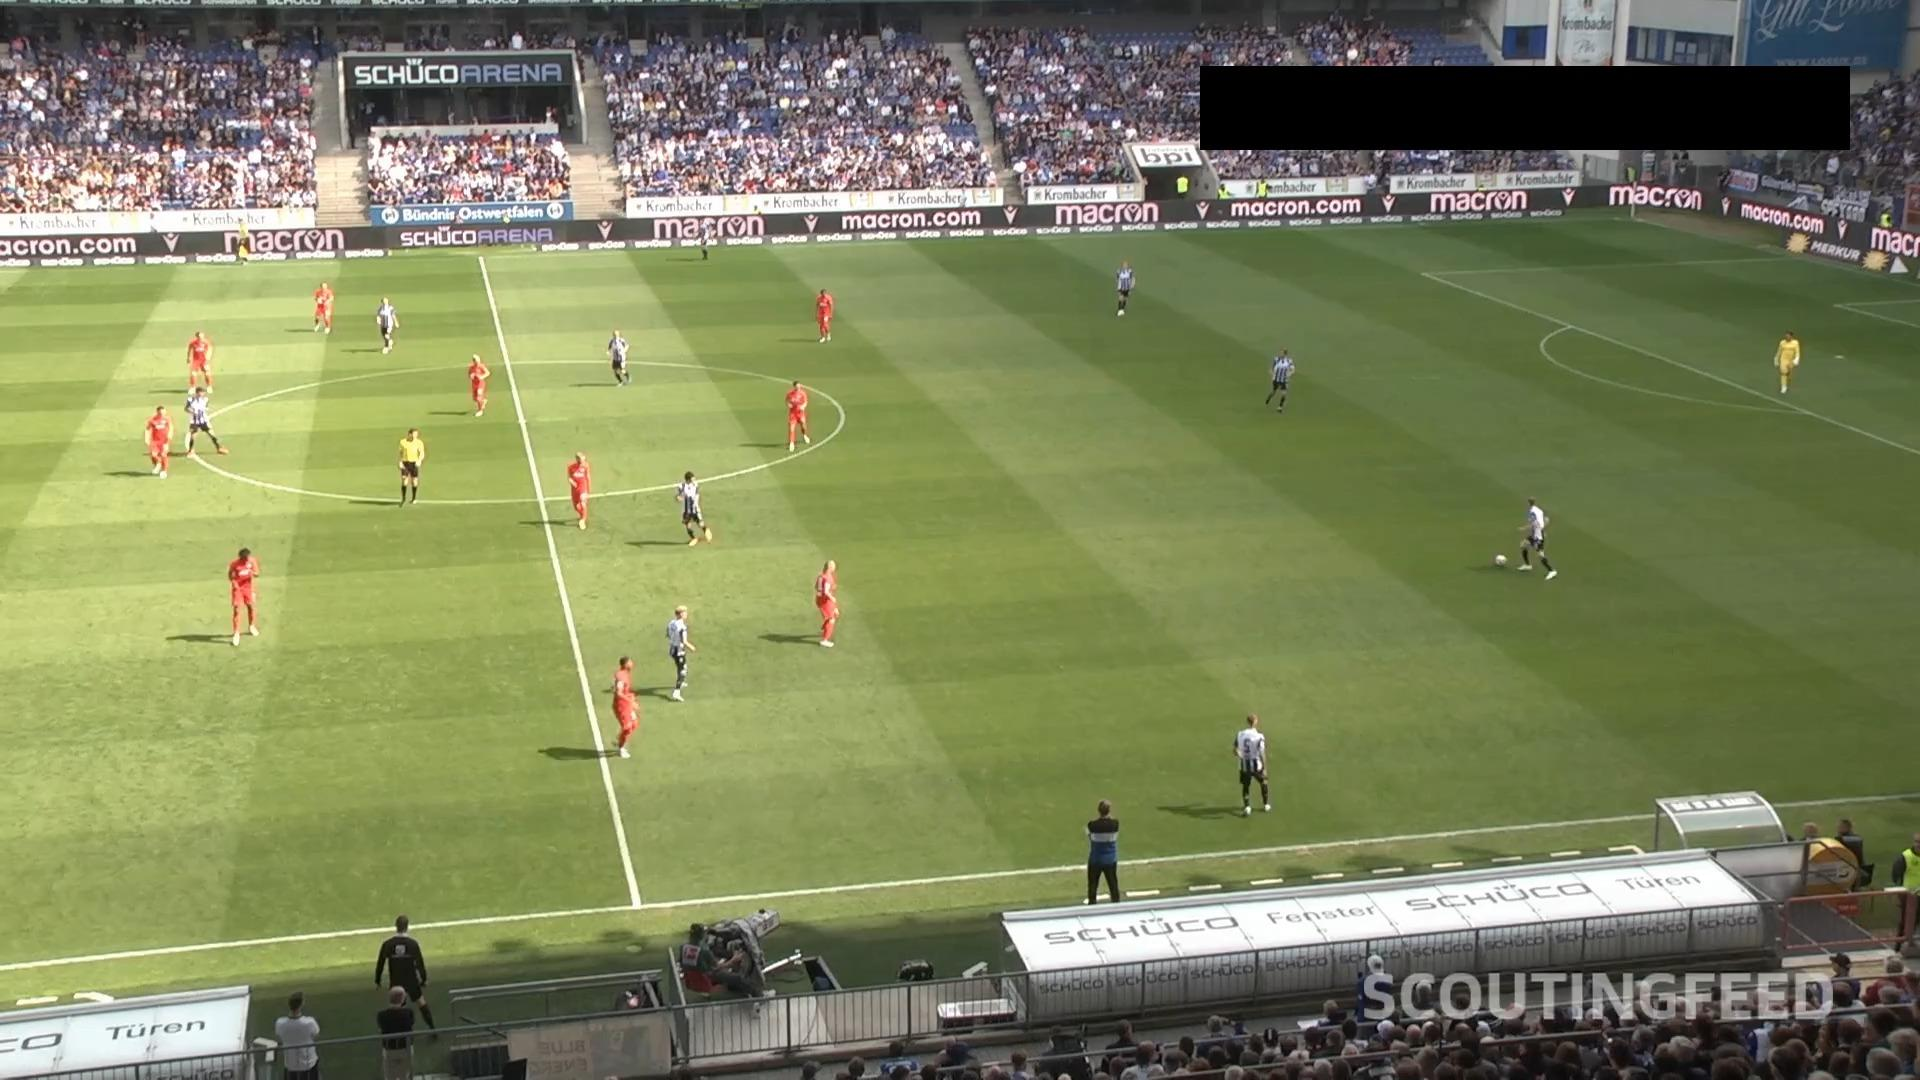ball: (1494, 554, 1509, 567)
